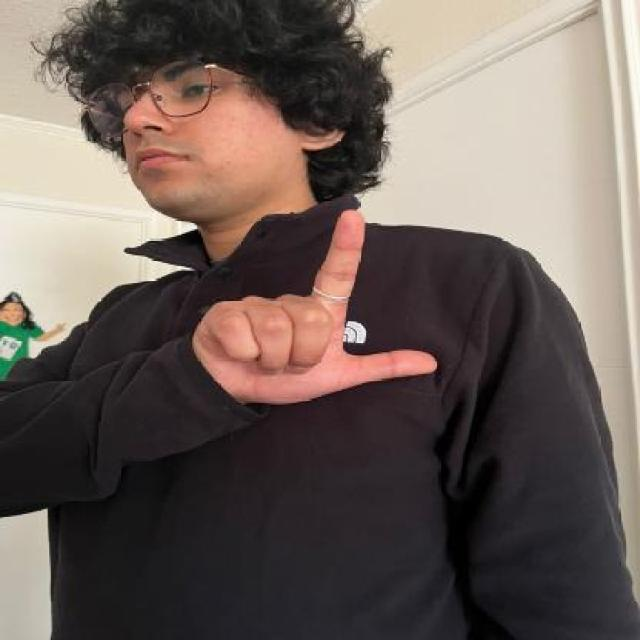L: (197, 206, 443, 406)
